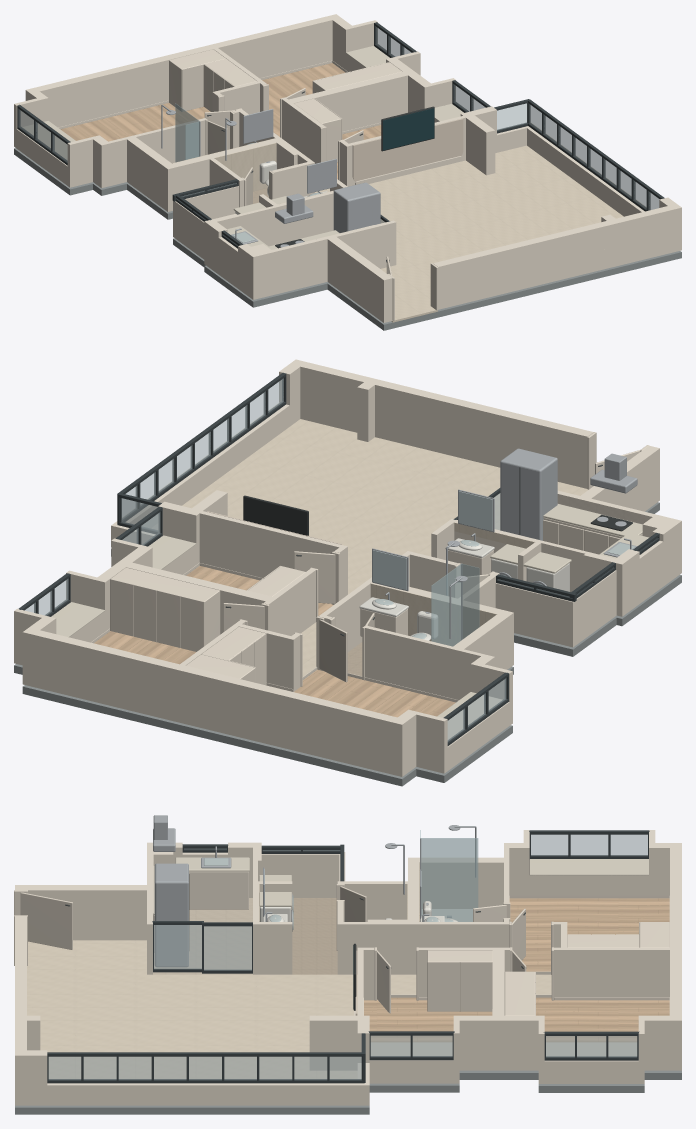
File: architecture-cut.glb
3 views of the same model, one above another, from view 1: azimuth 30°, elevation 25°; view 2: azimuth 150°, elevation 25°; view 3: azimuth 270°, elevation 25° (orthographic). The views are drawn at different scales.
Parts seen in each view (by area): view 1: 剖切墙_0.00_00, 客餐厅阳台及过道_地面, 剖切墙_0.50_04, 剖切墙_0.50_00, 住宅楼板, 剖切墙_0.95_00, 剖切墙_0.50_02, 剖切墙_0.95_04, 剖切_奶油方案_圆角电视墙, 剖切墙_0.50_01, 剖切墙_0.95_02, 剖切墙_0.45_00 (+27 smaller); view 2: 剖切墙_0.00_00, 客餐厅阳台及过道_地面, 剖切墙_0.50_04, 剖切墙_0.50_00, 剖切墙_0.95_00, 住宅楼板, 剖切墙_0.50_02, 剖切墙_0.95_04, 对开门冰箱_家电占位, 剖切墙_0.95_02, 剖切墙_0.45_00, 主卧与开放衣帽间_地面 (+39 smaller); view 3: 客餐厅阳台及过道_地面, 剖切墙_0.00_00, 剖切墙_0.50_04, 住宅楼板, 主卧与开放衣帽间_地面, 剖切墙_0.95_04, 主卫淋浴_东玻璃, 剖切墙_0.95_00, 长辈房_地面, 剖切墙_0.50_00, 厨房_地面, 公卫湿区与盥洗晾晒_地面 (+54 smaller).
Boxes of the visible parts, x1,y1,x2,y2 form: 剖切墙_0.00_00: (14, 45, 681, 322); 客餐厅阳台及过道_地面: (315, 145, 623, 322); 剖切墙_0.50_04: (67, 117, 396, 303); 剖切墙_0.50_00: (14, 26, 373, 128); 住宅楼板: (14, 148, 681, 330); 剖切墙_0.95_00: (14, 14, 377, 111); 剖切墙_0.50_02: (438, 206, 681, 290); 剖切墙_0.95_04: (67, 109, 314, 186); 剖切_奶油方案_圆角电视墙: (352, 118, 463, 181); 剖切墙_0.50_01: (282, 59, 452, 149); 剖切墙_0.95_02: (433, 197, 681, 272); 剖切墙_0.45_00: (14, 43, 496, 305); 剖切墙_0.00_00: (14, 397, 681, 776); 客餐厅阳台及过道_地面: (152, 419, 588, 676); 剖切墙_0.50_04: (334, 455, 681, 701); 剖切墙_0.50_00: (14, 618, 447, 752); 剖切墙_0.95_00: (14, 608, 447, 731); 住宅楼板: (14, 502, 681, 786); 剖切墙_0.50_02: (279, 374, 587, 464); 剖切墙_0.95_04: (318, 551, 513, 680); 对开门冰箱_家电占位: (500, 448, 557, 540); 剖切墙_0.95_02: (279, 359, 593, 443); 剖切墙_0.45_00: (14, 477, 681, 755); 主卧与开放衣帽间_地面: (294, 669, 455, 717); 客餐厅阳台及过道_地面: (27, 940, 551, 1078); 剖切墙_0.00_00: (15, 877, 681, 1105); 剖切墙_0.50_04: (46, 852, 529, 951); 住宅楼板: (15, 1070, 681, 1114); 主卧与开放衣帽间_地面: (509, 898, 669, 971); 剖切墙_0.95_04: (337, 830, 529, 931); 主卫淋浴_东玻璃: (421, 838, 478, 921); 剖切墙_0.95_00: (553, 830, 681, 1040); 长辈房_地面: (536, 997, 669, 1041); 剖切墙_0.50_00: (553, 855, 681, 1061); 厨房_地面: (153, 898, 252, 974); 公卫湿区与盥洗晾晒_地面: (292, 898, 337, 974).
Bounding box in the file's own units: 10.62 × 2.43 × 13.28.
21 materials, 6 textured.
